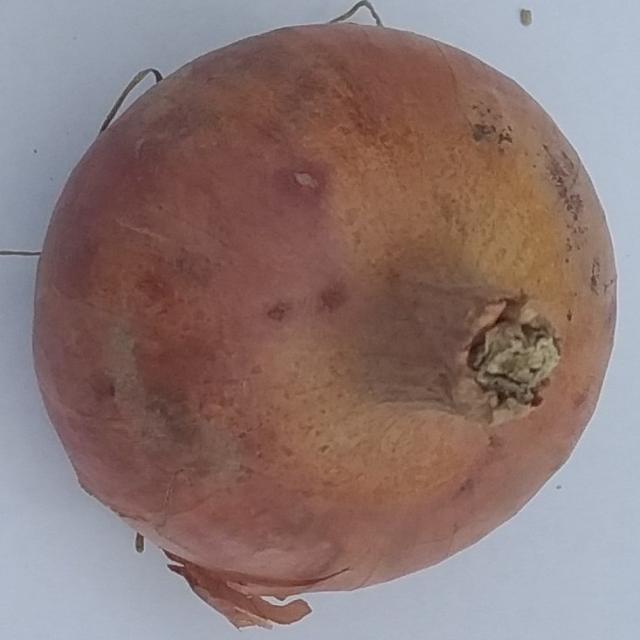onion: (29, 17, 616, 628)
